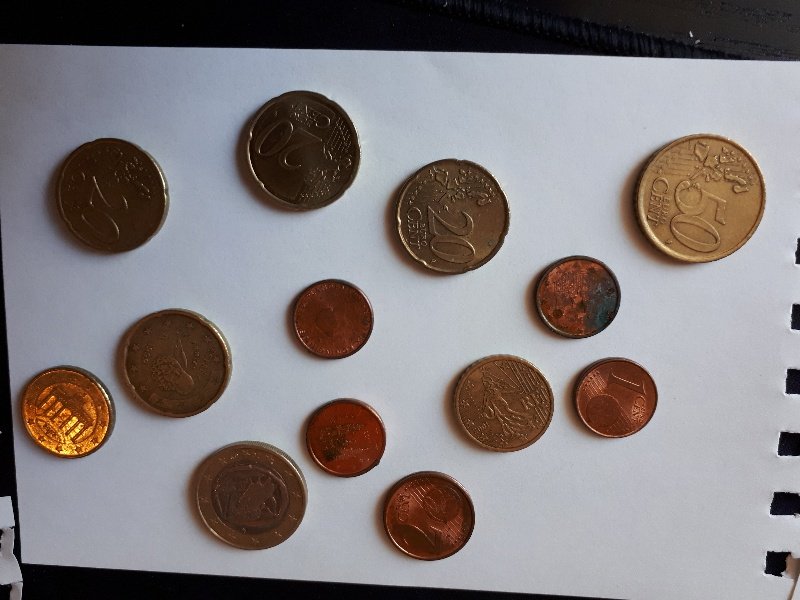1 cent: (533, 253, 624, 343), (571, 355, 660, 443), (290, 278, 377, 366), (301, 397, 388, 480)
1 euro: (191, 436, 309, 552)
10 cent: (452, 354, 558, 457), (15, 364, 120, 462)
2 euro: (380, 468, 478, 564)
20 cent: (241, 87, 365, 216), (393, 157, 513, 278), (118, 304, 236, 421), (54, 136, 173, 252)
50 cent: (627, 131, 769, 270)
